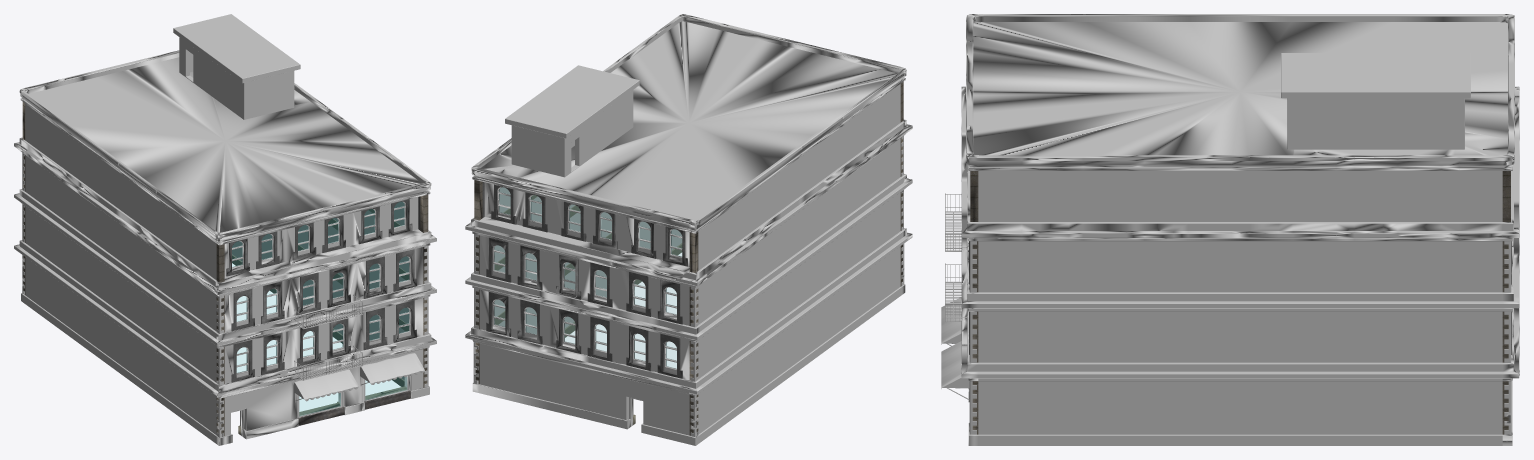
Rendered from SM_Building16_V3.fbx.
3 renders of one model, left to right at view 1: azimuth 30°, elevation 25°; view 2: azimuth 150°, elevation 25°; view 3: azimuth 270°, elevation 25°, orthographic. The views are drawn at different scales.
Visible parts, largest first — view 1: SM_Building16_V3; view 2: SM_Building16_V3; view 3: SM_Building16_V3.
Boxes of the visible parts, x1=… form: SM_Building16_V3: x1=14, y1=14, x2=436, y2=445; SM_Building16_V3: x1=465, y1=14, x2=912, y2=445; SM_Building16_V3: x1=941, y1=14, x2=1519, y2=445.
Bounding box in the file's own units: 1818 × 1979 × 3019.
